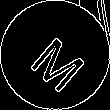M_NE: (21, 21, 89, 89)
